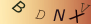B: (11, 1, 26, 13)
D: (34, 9, 46, 20)
N: (51, 8, 66, 24)
V: (80, 1, 91, 13)
X: (68, 9, 85, 23)
